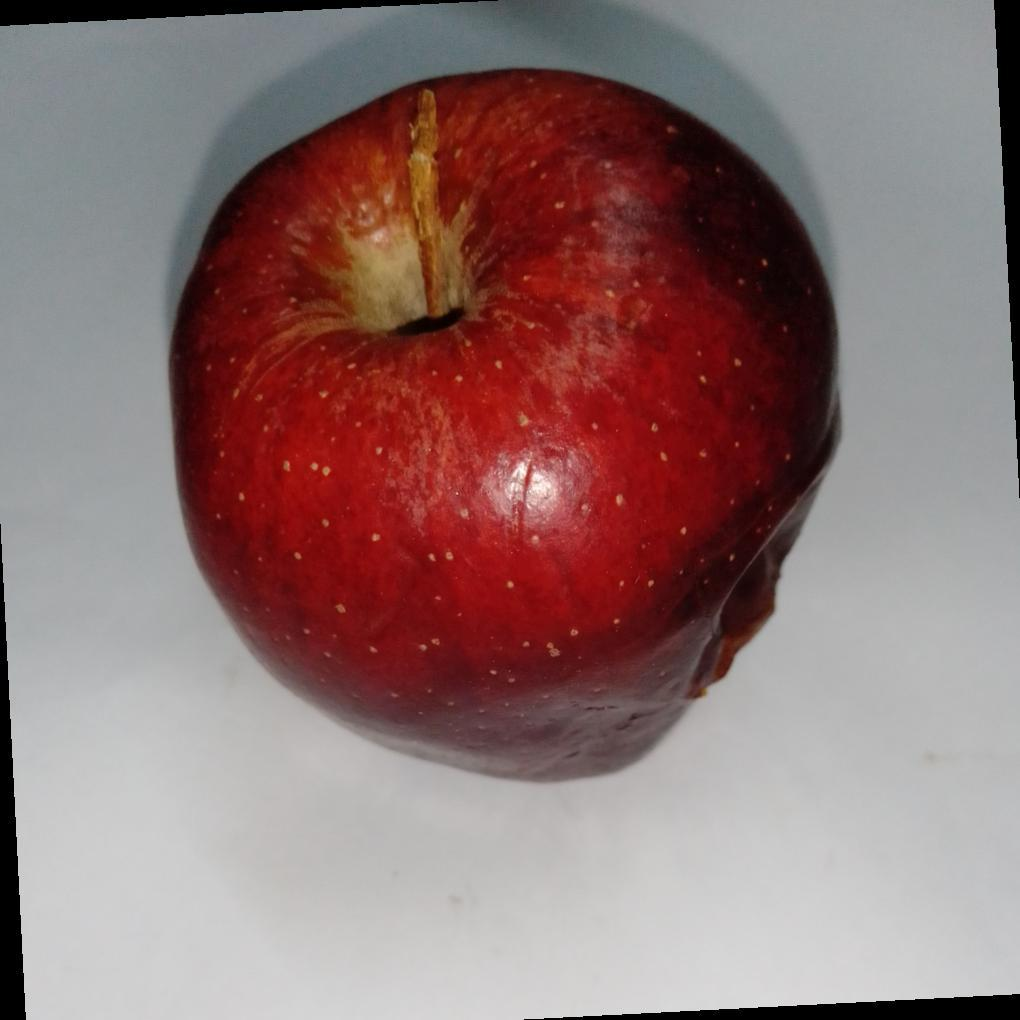FreshOrange: (166, 69, 841, 789)
